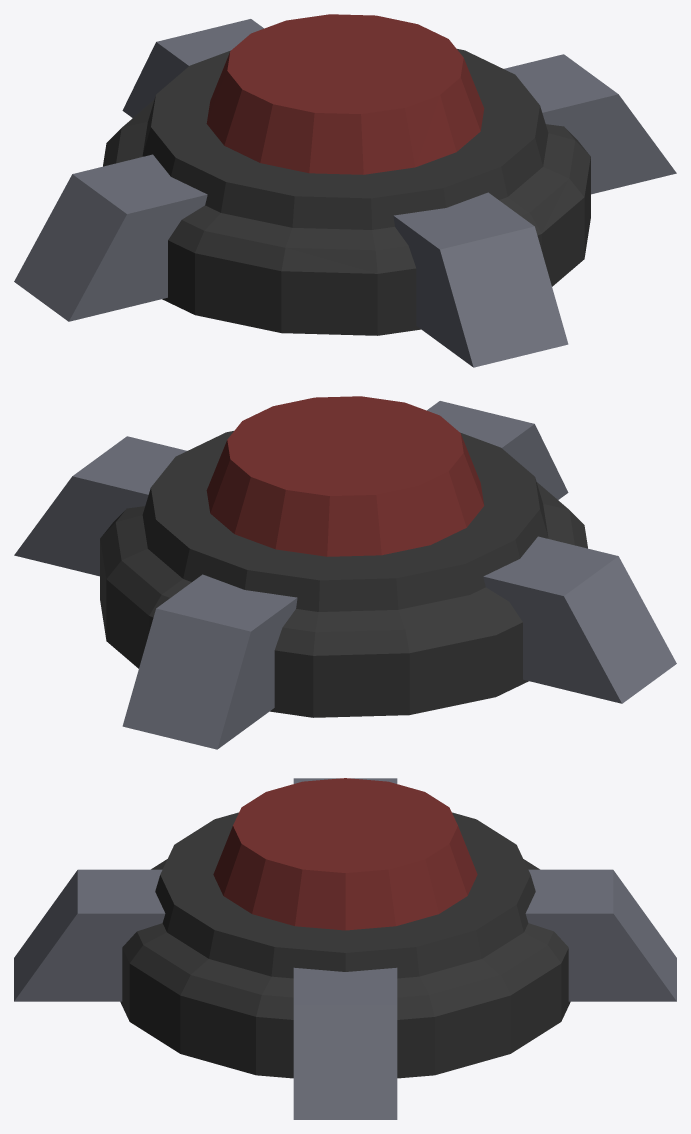
The model's file is landmine.glb.
3 renders of one model, top to bottom at view 1: azimuth 30°, elevation 25°; view 2: azimuth 150°, elevation 25°; view 3: azimuth 270°, elevation 25°, orthographic. The views are drawn at different scales.
Parts seen in each view (by area): view 1: Landmine; view 2: Landmine; view 3: Landmine.
Part boxes in pixels (x1,y1,x2,y2): Landmine: (14, 14, 676, 367); Landmine: (14, 396, 676, 749); Landmine: (14, 778, 676, 1119).
Size of the model in its own units: 1.11 by 0.2942 by 1.11.
